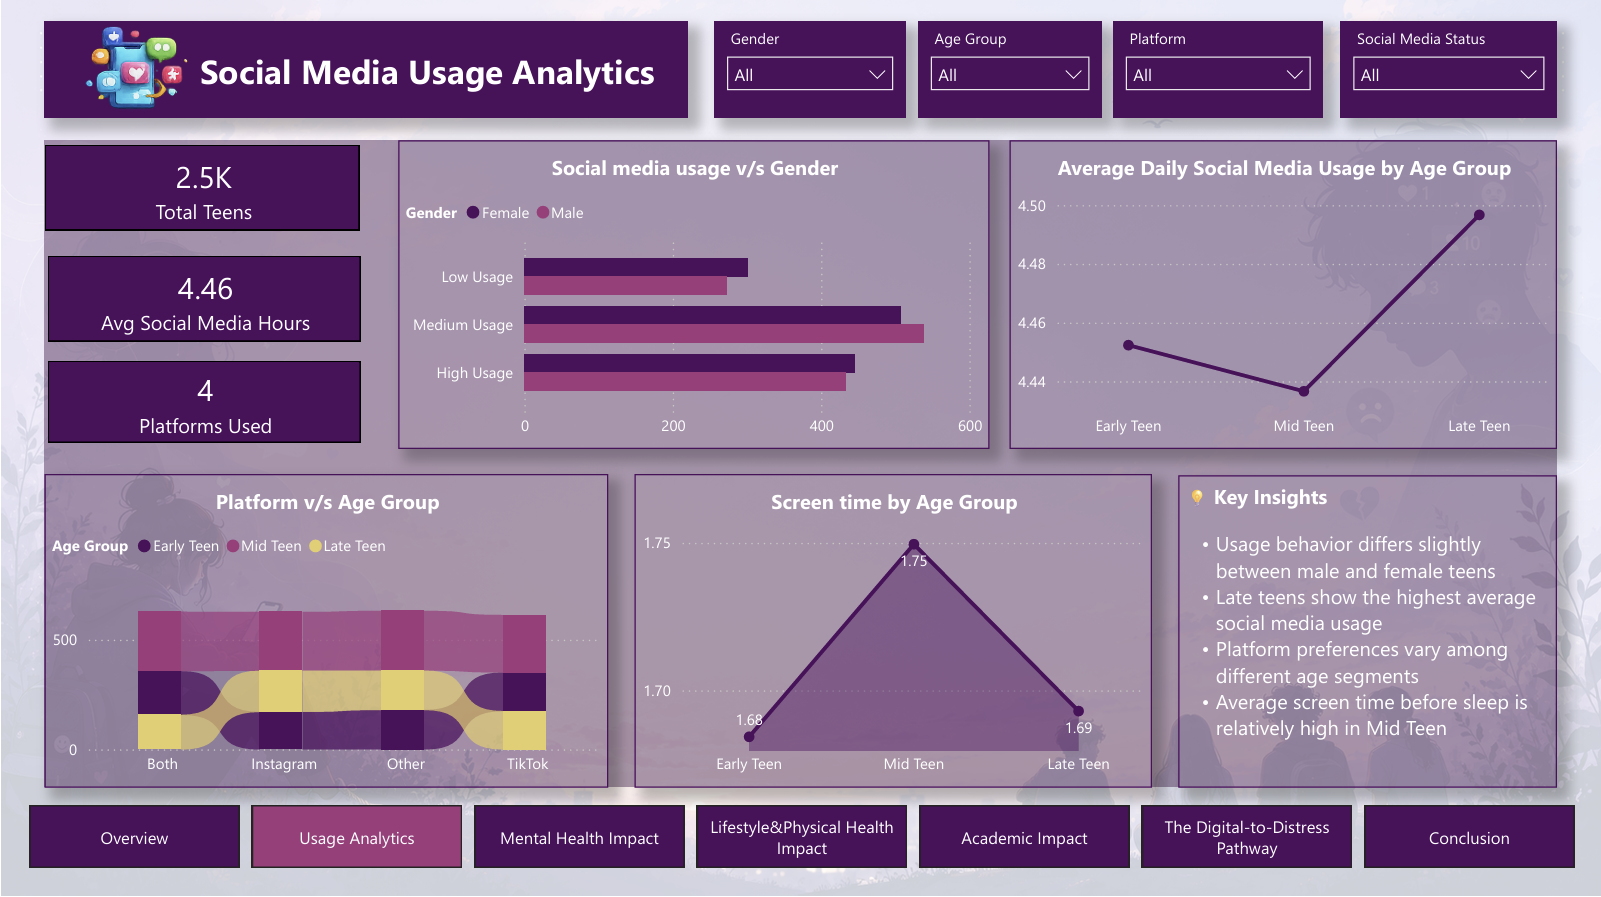

Layout of this report page (visuals, bound fields, positions):
{"tool":"powerbi","page":{"name":"Usage Analytics","canvas":[1280,720],"ordinal":1},"visuals":[{"type":"slicer","fields":{"Values":["Teen_Mental_Health_Dataset.Gender"]},"box":[570.3,17.6,152.9,77.4],"z":0},{"type":"slicer","fields":{"Values":["Teen_Mental_Health_Dataset.Age Group"]},"box":[732.9,17.6,147,77.4],"z":1000},{"type":"slicer","fields":{"Values":["Teen_Mental_Health_Dataset.Platform_usage"]},"box":[888.7,17.6,168.5,77.4],"z":2000},{"type":"slicer","fields":{"Values":["Teen_Mental_Health_Dataset.Social Media Usage Status"]},"box":[1071,17.6,173.4,77.4],"z":3000},{"type":"cardVisual","fields":{"Data":["DAX measures.Total Teens"]},"box":[30.5,111.8,260.8,77.9],"z":4000},{"type":"areaChart","title":"Screen time by Age Group","fields":{"Y":["Avg(Teen_Mental_Health_Dataset.Screen_time_before_sleep)"],"Category":["Teen_Mental_Health_Dataset.Age Group"]},"box":[505.6,380.2,414.5,250.8],"z":5000},{"type":"ribbonChart","title":"Platform v/s Age Group","fields":{"Category":["Teen_Mental_Health_Dataset.Platform_usage"],"Y":["DAX measures.Total Teens"],"Series":["Teen_Mental_Health_Dataset.Age Group"]},"box":[34.3,380.2,450.7,250.8],"z":6000},{"type":"clusteredBarChart","title":"Social media usage v/s Gender","fields":{"Y":["DAX measures.Total Teens"],"Series":["Teen_Mental_Health_Dataset.Gender"],"Category":["Teen_Mental_Health_Dataset.Social Media Usage Status"]},"box":[317.3,112.9,473.1,247.3],"z":7000},{"type":"lineChart","title":"Average Daily Social Media Usage by Age Group","fields":{"Category":["Teen_Mental_Health_Dataset.Age Group"],"Y":["Avg(Teen_Mental_Health_Dataset.Daily_social_media_hours)"]},"box":[806.3,113,438.1,247.1],"z":8000},{"type":"textbox","box":[34.3,17.6,514.4,77.4],"z":9000},{"type":"textbox","box":[941,381,303,250],"z":10000},{"type":"pageNavigator","box":[21.6,644.7,1237.6,50],"z":11000},{"type":"cardVisual","fields":{"Data":["DAX measures.Avg Social Media Hours"]},"box":[31.6,201,260.8,77.9],"z":12000},{"type":"cardVisual","fields":{"Data":["DAX measures.Platforms Used"]},"box":[31.6,284.5,260.8,75.7],"z":13000},{"type":"image","box":[54,14,107,84],"z":14000}]}

Visuals, with their boxes in screenshot pixels (x1, y1, x2, y2), scaled from the page's 1280x720 canvas onto the 1601x897 screenshot:
slicer - Teen_Mental_Health_Dataset.Gender: box(713, 22, 905, 118)
slicer - Teen_Mental_Health_Dataset.Age Group: box(917, 22, 1101, 118)
slicer - Teen_Mental_Health_Dataset.Platform_usage: box(1112, 22, 1322, 118)
slicer - Teen_Mental_Health_Dataset.Social Media Usage Status: box(1340, 22, 1556, 118)
cardVisual - DAX measures.Total Teens: box(38, 139, 364, 236)
"Screen time by Age Group" areaChart: box(632, 474, 1151, 786)
"Platform v/s Age Group" ribbonChart: box(43, 474, 607, 786)
"Social media usage v/s Gender" clusteredBarChart: box(397, 141, 989, 449)
"Average Daily Social Media Usage by Age Group" lineChart: box(1009, 141, 1556, 449)
textbox: box(43, 22, 686, 118)
textbox: box(1177, 475, 1556, 786)
pageNavigator: box(27, 803, 1575, 865)
cardVisual - DAX measures.Avg Social Media Hours: box(40, 250, 366, 347)
cardVisual - DAX measures.Platforms Used: box(40, 354, 366, 449)
image: box(68, 17, 201, 122)
